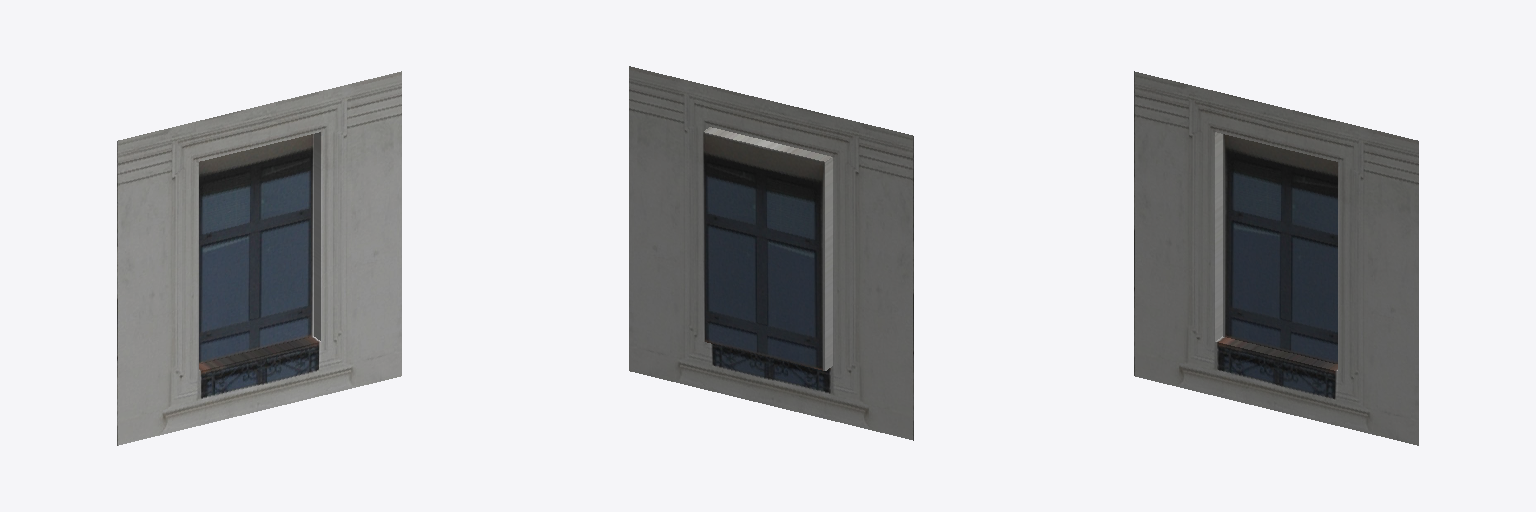
3 renders of one model, left to right at view 1: azimuth 30°, elevation 25°; view 2: azimuth 150°, elevation 25°; view 3: azimuth 330°, elevation 25°, orthographic.
Visible parts, largest first — view 1: polySurface99 polySurface98 pCube46; view 2: polySurface99 polySurface98 pCube46; view 3: polySurface99 polySurface98 pCube46.
Boxes of the visible parts, x1,y1,x2,y2 form: polySurface99 polySurface98 pCube46: [117, 71, 401, 445]; polySurface99 polySurface98 pCube46: [629, 66, 913, 440]; polySurface99 polySurface98 pCube46: [1134, 71, 1418, 445].
Size of the model in its own units: 0.3375 by 0.3449 by 0.0145.
1 materials, 1 textured.